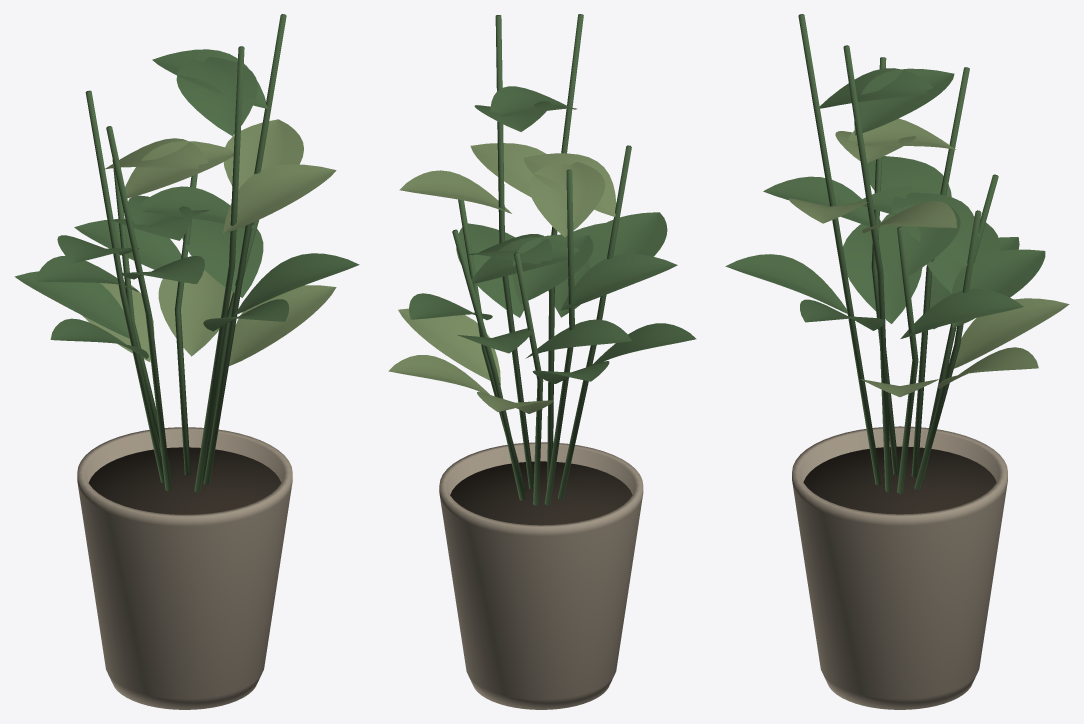
Rendered from traditional.plant.gltf.
The picture shows the model from 3 angles, left to right: view 1: azimuth 30°, elevation 25°; view 2: azimuth 150°, elevation 25°; view 3: azimuth 270°, elevation 25°; orthographic projection. The views are drawn at different scales.
Visible parts, largest first — view 1: traditional.plant.pot; view 2: traditional.plant.pot; view 3: traditional.plant.pot.
Part boxes in pixels (bbox=[...]): traditional.plant.pot: bbox=[14, 14, 359, 709]; traditional.plant.pot: bbox=[388, 14, 696, 709]; traditional.plant.pot: bbox=[725, 14, 1069, 709].
Size of the model in its own units: 0.3406 by 0.7205 by 0.3369.
